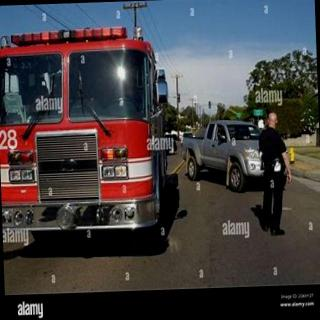Fire_truck: (0, 22, 181, 254)
